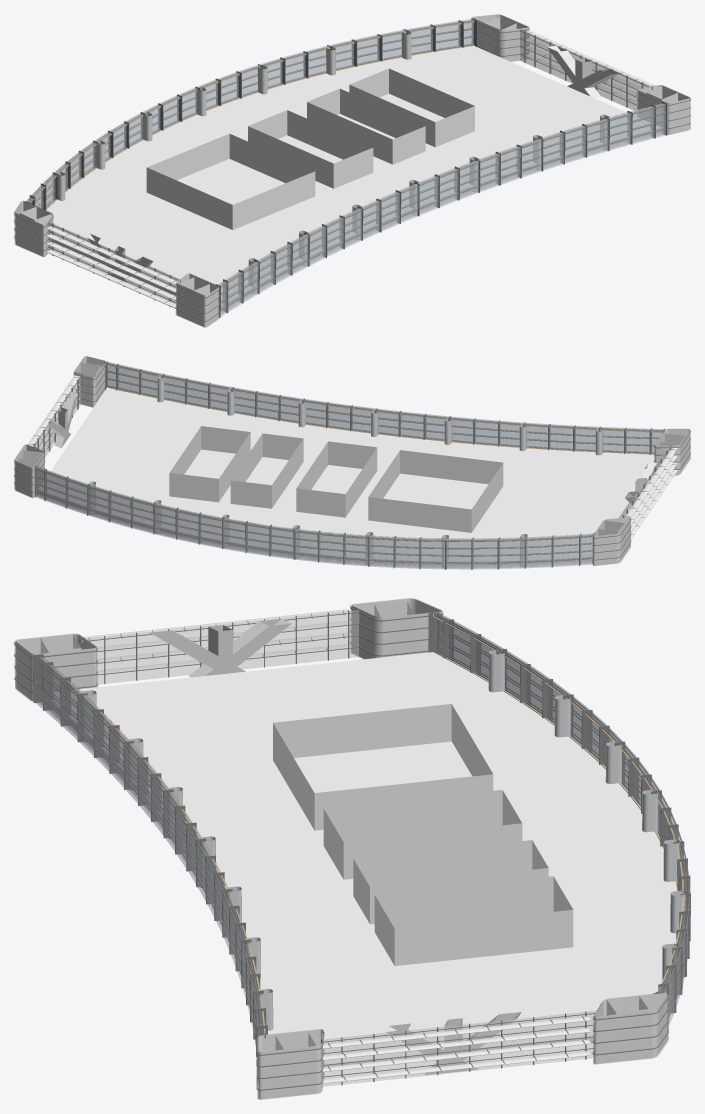
3 views of the same model, one above another, from view 1: azimuth 30°, elevation 25°; view 2: azimuth 150°, elevation 25°; view 3: azimuth 270°, elevation 25° (orthographic). The views are drawn at different scales.
Parts seen in each view (by area): view 1: floor.007; view 2: floor.007; view 3: floor.007.
Boxes of the visible parts, x1,y1,x2,y2 form: floor.007: (14, 14, 690, 327); floor.007: (14, 356, 690, 569); floor.007: (14, 598, 690, 1099).
Size of the model in its own units: 81.71 by 3.97 by 51.38.
13 materials, 1 textured.
